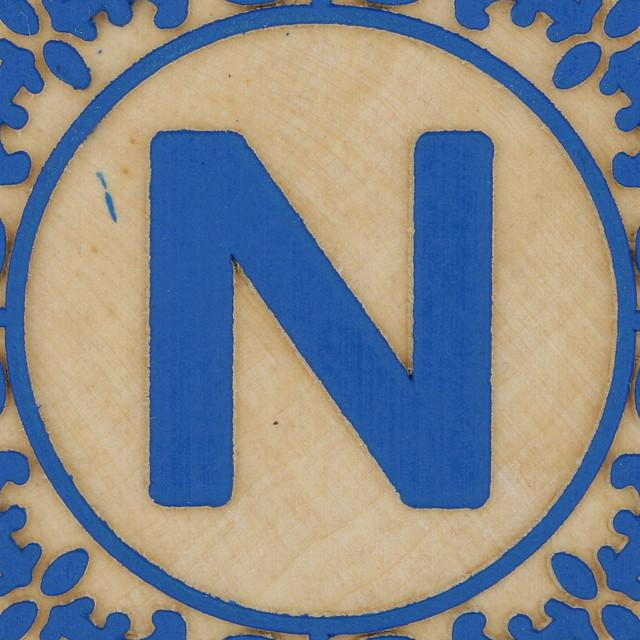N: (124, 104, 502, 536)
